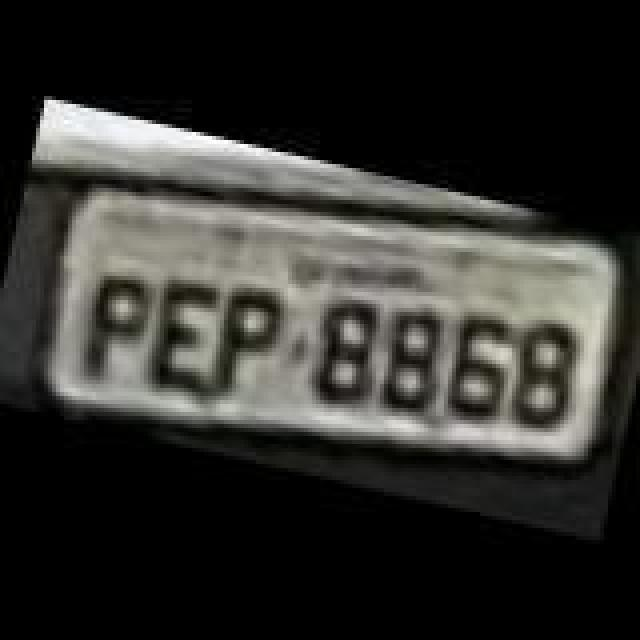6: (436, 304, 524, 432)
8: (500, 316, 588, 436), (364, 300, 452, 420), (304, 294, 384, 410)
E: (138, 274, 230, 398)
P: (206, 280, 290, 408), (70, 264, 154, 392)
